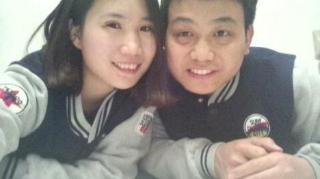long sleeve top: (135, 47, 319, 179), (0, 47, 156, 179)
